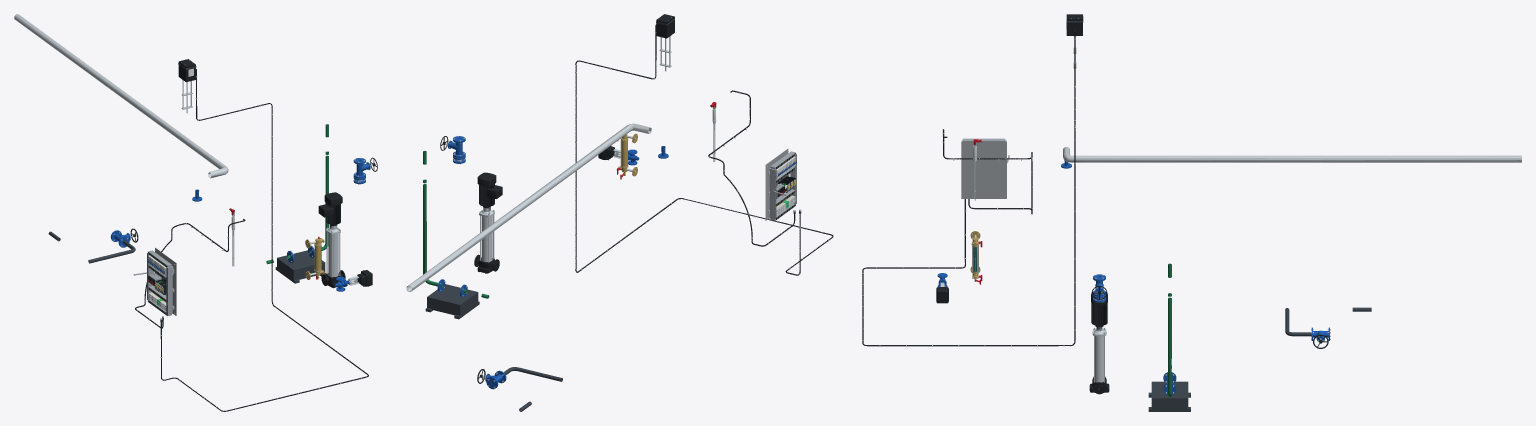
Rendered from s4000-7-CKxLNzWO.glb.
The picture shows the model from 3 angles, left to right: view 1: azimuth 30°, elevation 25°; view 2: azimuth 150°, elevation 25°; view 3: azimuth 270°, elevation 25°; orthographic projection. The views are drawn at different scales.
Visible parts, largest first — view 1: safety_vent_2 / steel, cabinet_interior / cabinet_interior_0.npz, gpz_drive_cable / black, pump_branch_2 / dark, pump_1 CAD solid 15, pump_1 CAD solid 2, bcv925 / bcv925_0.npz, sight_glasses_1 / sight_glasses_1_0.npz, pump_branch_2 / green, wiring_lp200 / black; view 2: safety_vent_2 / steel, cabinet_interior / cabinet_interior_0.npz, gpz_drive_cable / black, pump_branch_2 / dark, pump_1 CAD solid 15, pump_branch_2 / green, wiring_lp200 / black, sight_glasses_1 / sight_glasses_1_0.npz, pump_1 CAD solid 2; view 3: safety_vent_2 / steel, cabinet_interior / cabinet_interior_0.npz, gpz_drive_cable / black, pump_branch_2 / dark.
Boxes of the visible parts, x1=… form: safety_vent_2 / steel: x1=14, y1=14, x2=228, y2=178; cabinet_interior / cabinet_interior_0.npz: x1=133, y1=247, x2=176, y2=316; gpz_drive_cable / black: x1=160, y1=69, x2=368, y2=411; pump_branch_2 / dark: x1=275, y1=250, x2=326, y2=283; pump_1 CAD solid 15: x1=318, y1=192, x2=342, y2=225; pump_1 CAD solid 2: x1=328, y1=233, x2=338, y2=276; bcv925 / bcv925_0.npz: x1=334, y1=270, x2=372, y2=291; sight_glasses_1 / sight_glasses_1_0.npz: x1=305, y1=236, x2=324, y2=279; pump_branch_2 / green: x1=266, y1=124, x2=328, y2=264; wiring_lp200 / black: x1=135, y1=219, x2=245, y2=328; safety_vent_2 / steel: x1=406, y1=123, x2=651, y2=291; cabinet_interior / cabinet_interior_0.npz: x1=765, y1=149, x2=796, y2=220; gpz_drive_cable / black: x1=575, y1=24, x2=833, y2=275; pump_branch_2 / dark: x1=425, y1=284, x2=479, y2=319; pump_1 CAD solid 15: x1=477, y1=172, x2=502, y2=207; pump_branch_2 / green: x1=423, y1=151, x2=489, y2=298; wiring_lp200 / black: x1=708, y1=90, x2=795, y2=246; sight_glasses_1 / sight_glasses_1_0.npz: x1=616, y1=133, x2=637, y2=179; pump_1 CAD solid 2: x1=481, y1=216, x2=492, y2=261; safety_vent_2 / steel: x1=1063, y1=147, x2=1521, y2=162; cabinet_interior / cabinet_interior_0.npz: x1=961, y1=138, x2=1009, y2=198; gpz_drive_cable / black: x1=862, y1=29, x2=1075, y2=346; pump_branch_2 / dark: x1=1148, y1=381, x2=1190, y2=411.
Bounding box in the file's own units: 3.77 × 3.57 × 7.03.
